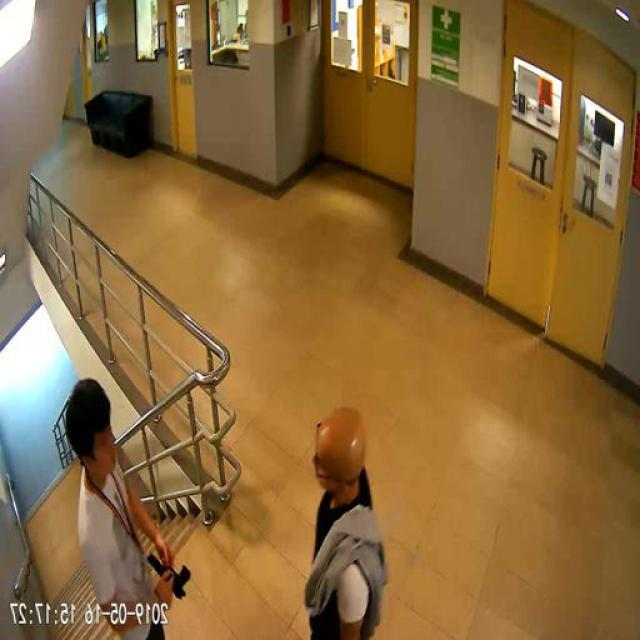Gun: (148, 548, 192, 598)
